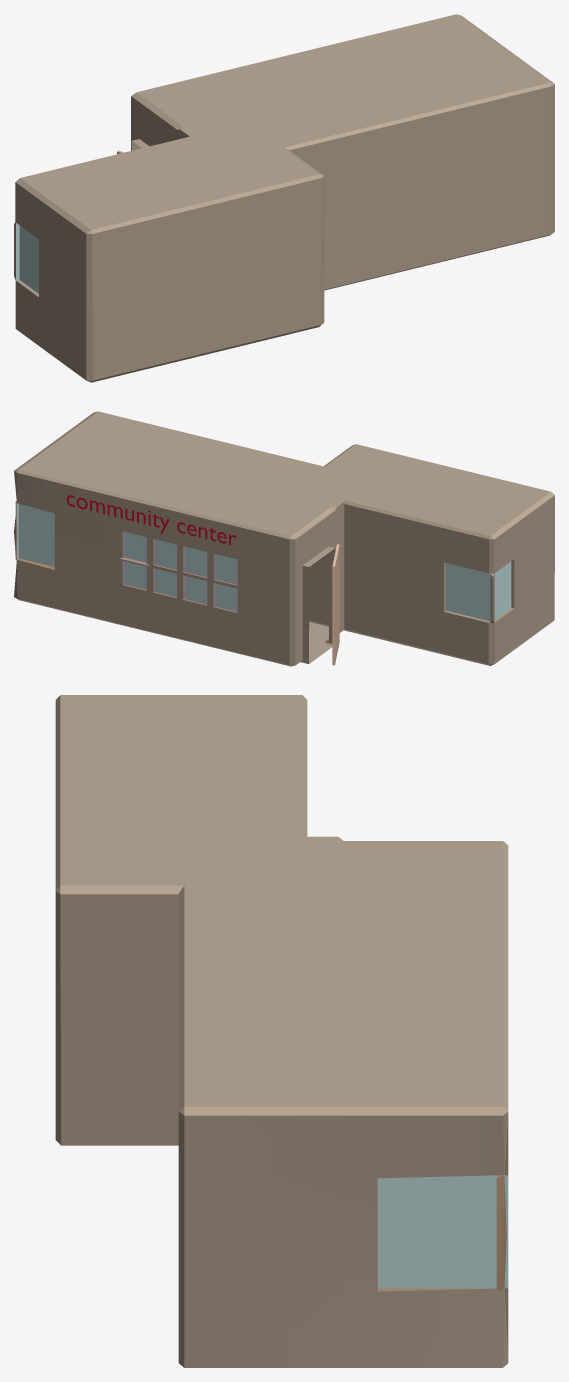
The model's file is buurthuis!.fbx.
3 renders of one model, top to bottom at view 1: azimuth 30°, elevation 25°; view 2: azimuth 150°, elevation 25°; view 3: azimuth 270°, elevation 25°, orthographic. The views are drawn at different scales.
Parts seen in each view (by area): view 1: Cube, Cube.001, Cube.003; view 2: Cube, Cube.001, Cube.004, Cube.003, Cube.006, Text, Cube.002; view 3: Cube, Cube.001, Cube.004.
Boxes of the visible parts, left/top/right/bottom form: Cube: left=131, top=14, right=554, bottom=290; Cube.001: left=14, top=122, right=324, bottom=382; Cube.003: left=16, top=223, right=38, bottom=293; Cube: left=14, top=411, right=345, bottom=666; Cube.001: left=295, top=444, right=554, bottom=665; Cube.004: left=17, top=503, right=236, bottom=610; Cube.003: left=446, top=561, right=511, bottom=621; Cube.006: left=123, top=531, right=237, bottom=611; Text: left=66, top=495, right=236, bottom=544; Cube.002: left=332, top=544, right=339, bottom=665; Cube: left=178, top=836, right=508, bottom=1367; Cube.001: left=55, top=695, right=307, bottom=1145; Cube.004: left=377, top=1175, right=508, bottom=1288.
Size of the model in its own units: 3025 by 884 by 1394.
